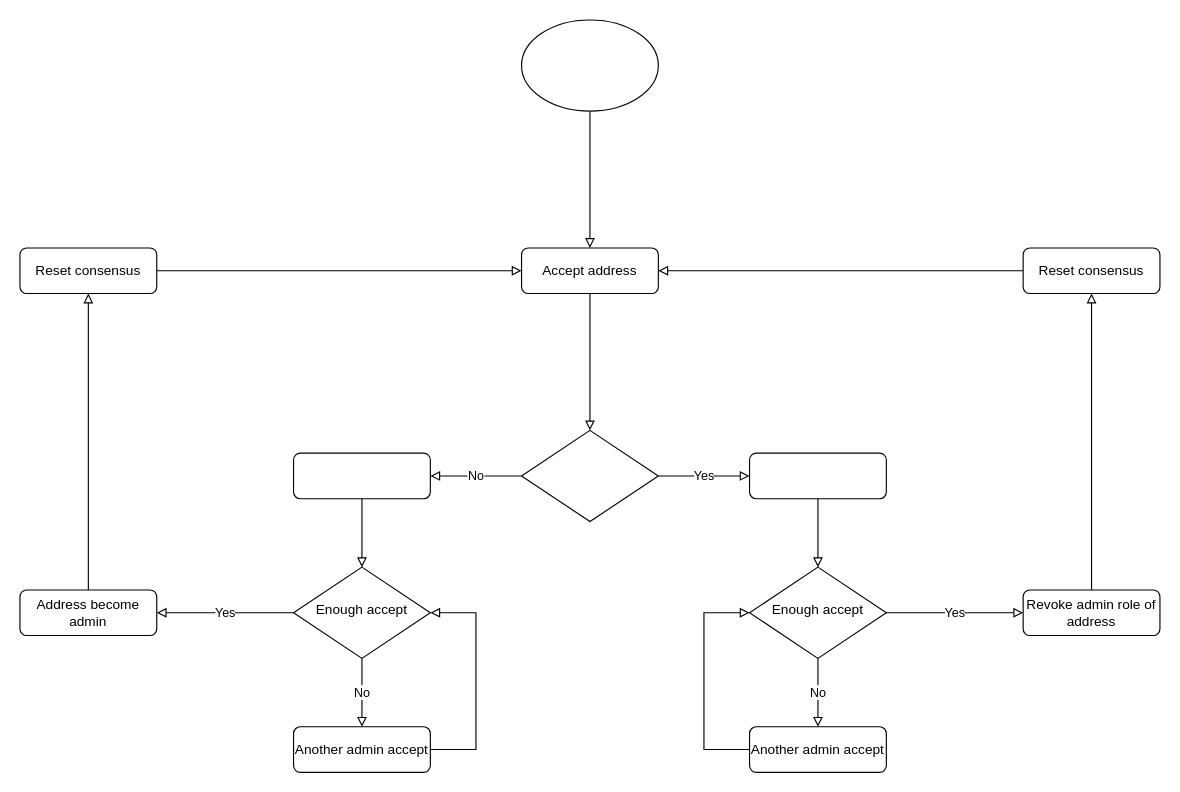
The diagram is 1180 pixels wide and 792 high, and some of its shapes have lost their labels. The centre of each missing label's shape, as x and y in pixels:
"Add new admin" belongs at (x=361, y=475).
"Address is an admin" belongs at (x=589, y=475).
"Revoke admin" belongs at (x=817, y=475).
"Start Grant role for deploy address" belongs at (x=589, y=65).
